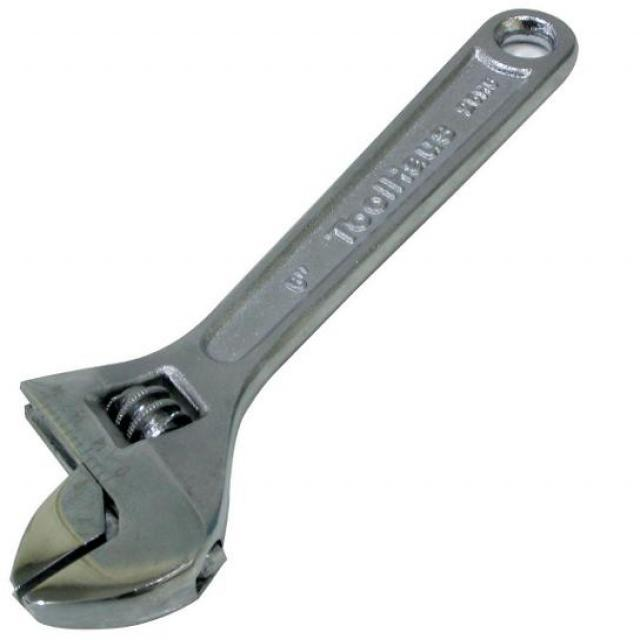wrench: (0, 2, 586, 632)
